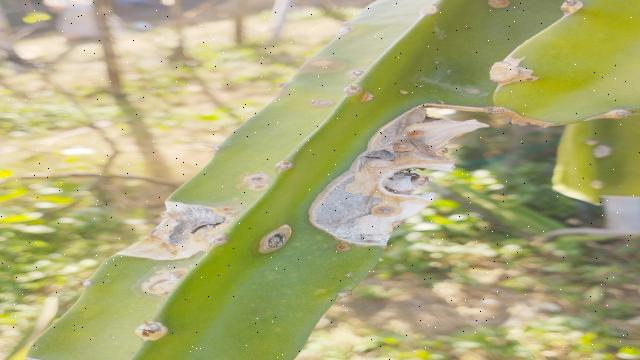stemcanker: (233, 167, 278, 193), (295, 94, 342, 113), (268, 156, 297, 176)
